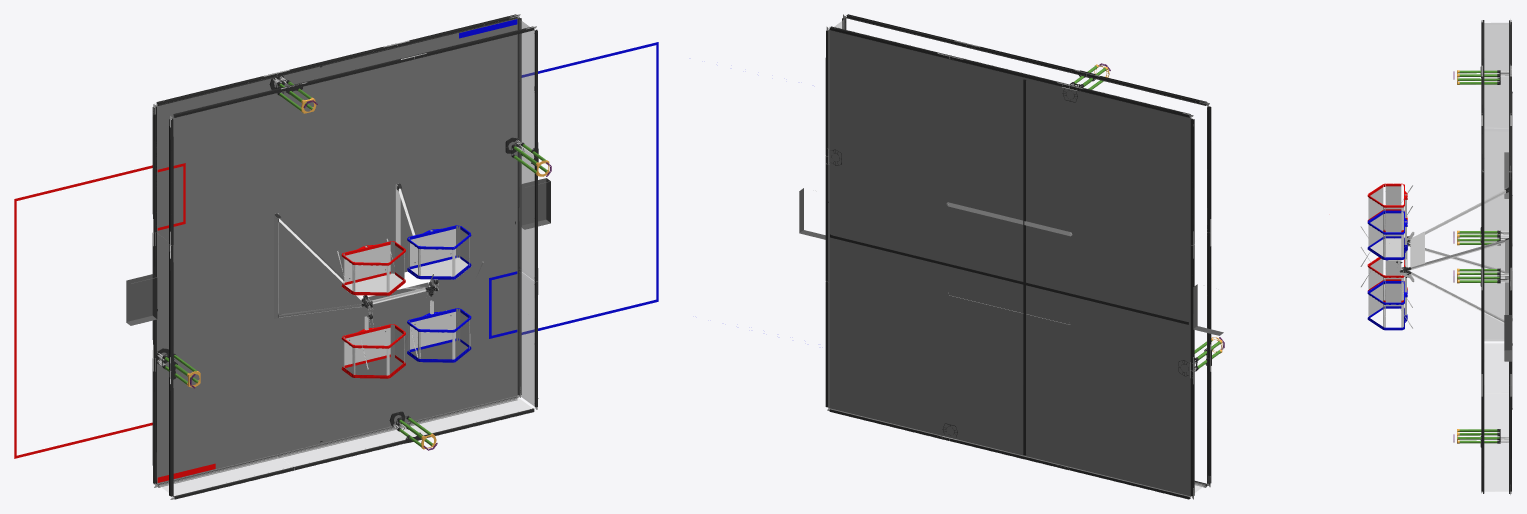
The model's file is field.glb.
The picture shows the model from 3 angles, left to right: view 1: azimuth 30°, elevation 25°; view 2: azimuth 150°, elevation 25°; view 3: azimuth 270°, elevation 25°; orthographic projection. The views are drawn at different scales.
Parts seen in each view (by area): view 1: tiles, walls, hive_red/tray, hive_blue/tray, tape, stations, hive_red/frame, hive_blue/frame, flower_3, flower_2, flower_0, flower_1; view 2: tiles, walls, stations; view 3: walls, hive_blue/tray, hive_red/tray, hive_blue/frame, hive_red/frame, hive_shared/frame, flower_2, flower_0, flower_3, flower_1, stations.
Boxes of the visible parts, <box> form: tiles: <box>156,18,518,484</box>; walls: <box>152,14,538,499</box>; hive_red/tray: <box>341,241,405,378</box>; hive_blue/tray: <box>407,225,471,362</box>; tape: <box>14,19,658,482</box>; stations: <box>126,178,550,325</box>; hive_red/frame: <box>274,213,373,369</box>; hive_blue/frame: <box>395,183,483,327</box>; flower_3: <box>389,411,437,450</box>; flower_2: <box>505,137,551,176</box>; flower_0: <box>152,348,200,388</box>; flower_1: <box>269,71,317,113</box>; tiles: <box>828,29,1191,496</box>; walls: <box>825,14,1211,499</box>; stations: <box>799,188,1223,335</box>; walls: <box>1481,19,1512,494</box>; hive_blue/tray: <box>1367,210,1407,330</box>; hive_red/tray: <box>1367,183,1407,302</box>; hive_blue/frame: <box>1360,238,1508,328</box>; hive_red/frame: <box>1360,185,1508,273</box>; hive_shared/frame: <box>1360,196,1512,320</box>; flower_2: <box>1453,268,1508,286</box>; flower_0: <box>1453,227,1508,245</box>; flower_3: <box>1453,429,1508,447</box>; flower_1: <box>1453,66,1508,84</box>; stations: <box>1504,152,1511,361</box>.
Size of the model in its own units: 251 by 144 by 60.7.
